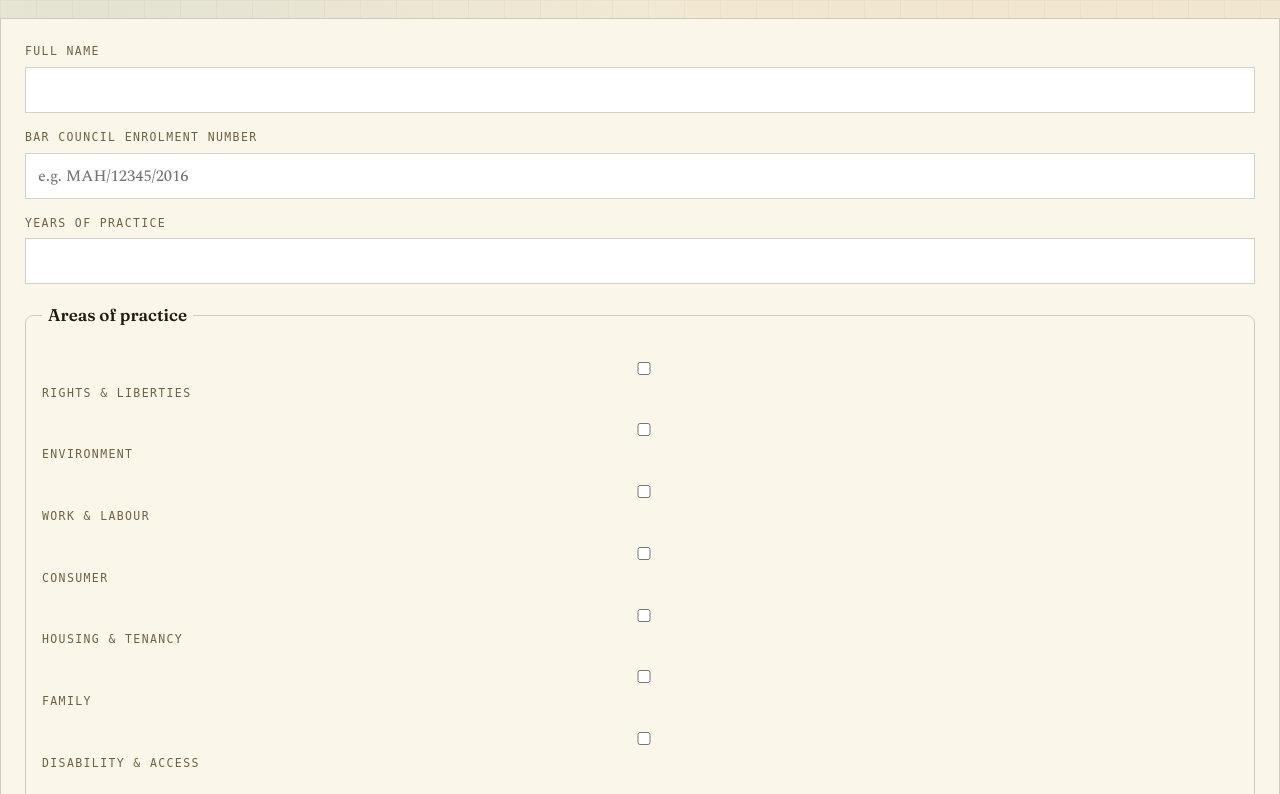
LawyerApplicationForm › requires a specialisation before submitting
Type "Meera Pillai" into the field labelled "Full name". click: coordinates (640, 90)
box: [25, 67, 1255, 113]
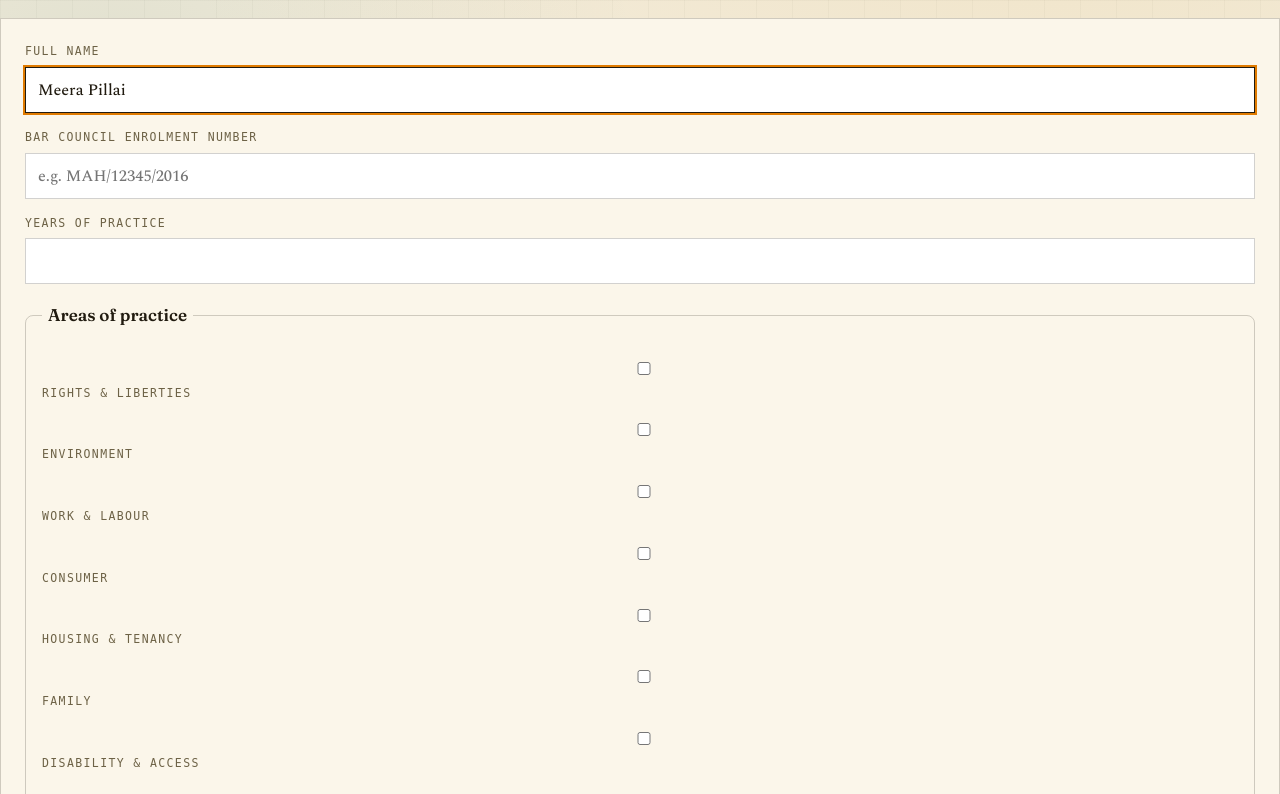
Type "KL/2041/2013" into the field labelled "Bar council enrolment number". click: coordinates (640, 176)
box: [25, 153, 1255, 199]
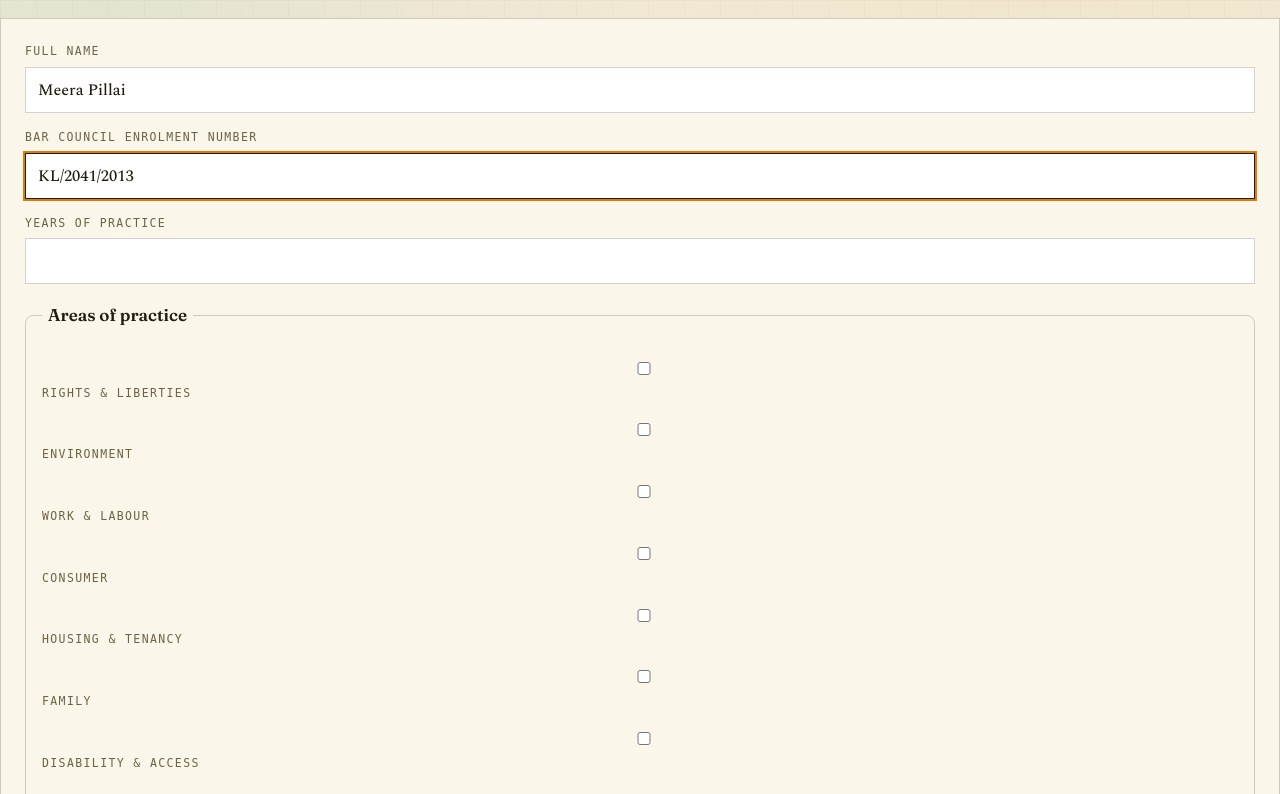
Type "11" into the number field labelled "Years of practice". click: coordinates (640, 261)
box: [25, 238, 1255, 284]
(page scrolled)
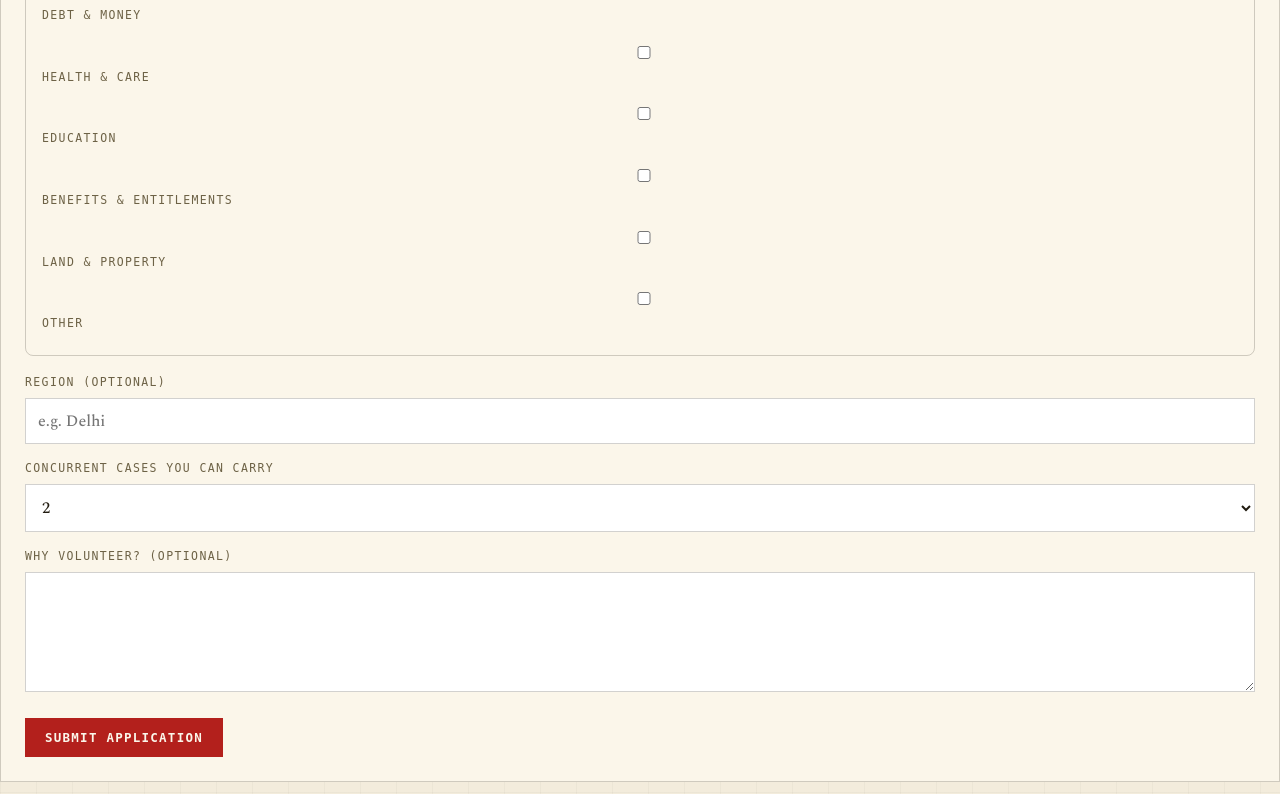
Click the button "Submit application". click: coordinates (124, 737)
box: [25, 718, 223, 757]
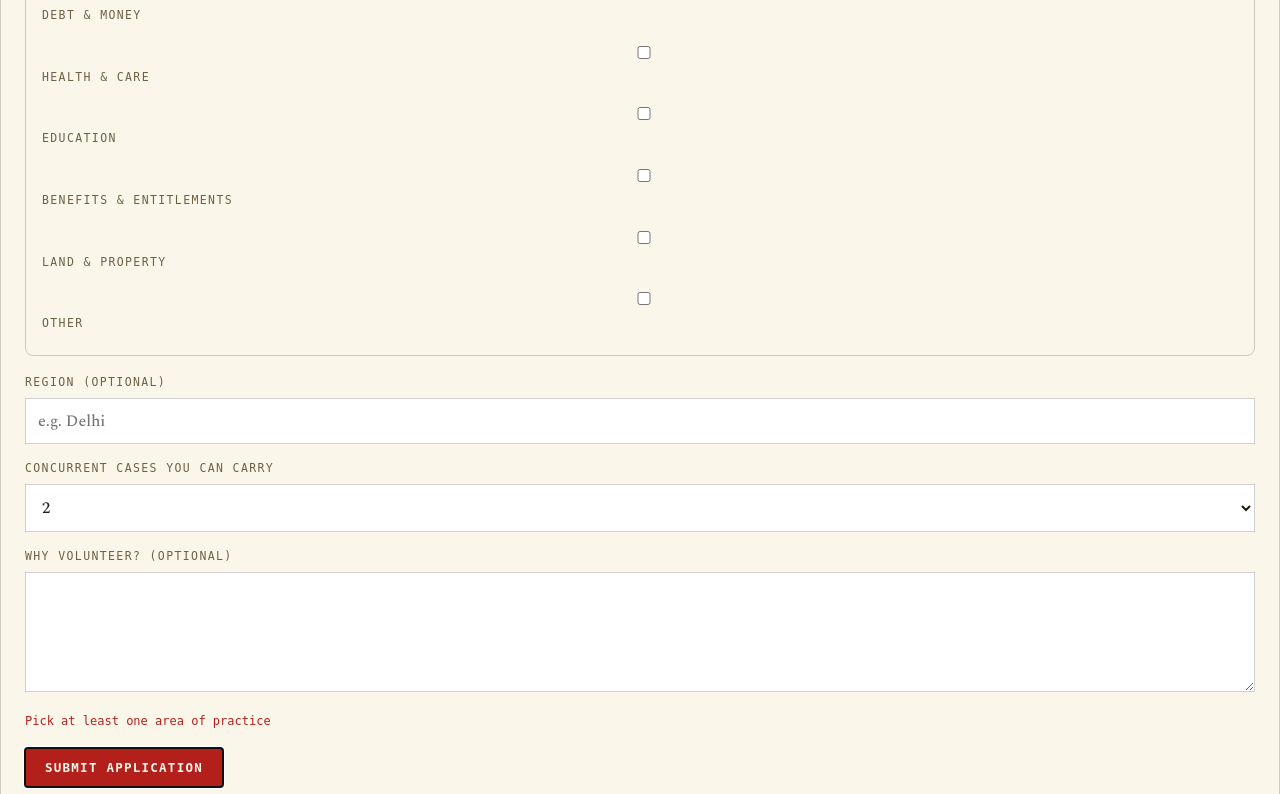
Result: the message shows "at least one area" at [25, 714, 271, 728]
